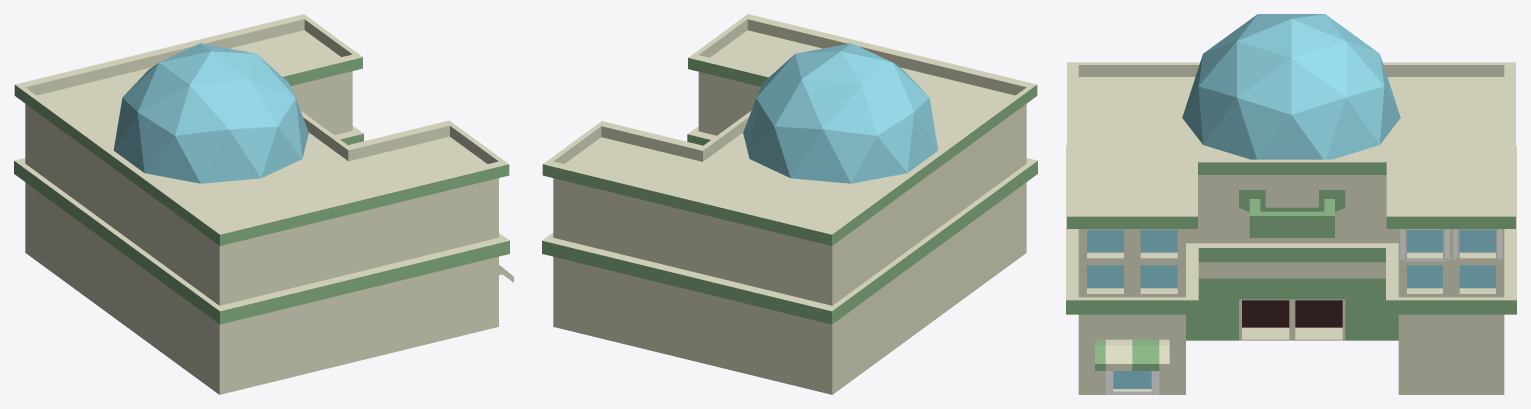
File: dome.fbx
3 views of the same model, side by side, from view 1: azimuth 30°, elevation 25°; view 2: azimuth 150°, elevation 25°; view 3: azimuth 270°, elevation 25° (orthographic). The views are drawn at different scales.
Visible parts, largest first — view 1: Cube; view 2: Cube; view 3: Cube.
Boxes of the visible parts, x1,y1,x2,y2 form: Cube: [14, 14, 513, 394]; Cube: [542, 14, 1037, 394]; Cube: [1066, 14, 1516, 394].
Bounding box in the file's own units: 833 × 650 × 968.
